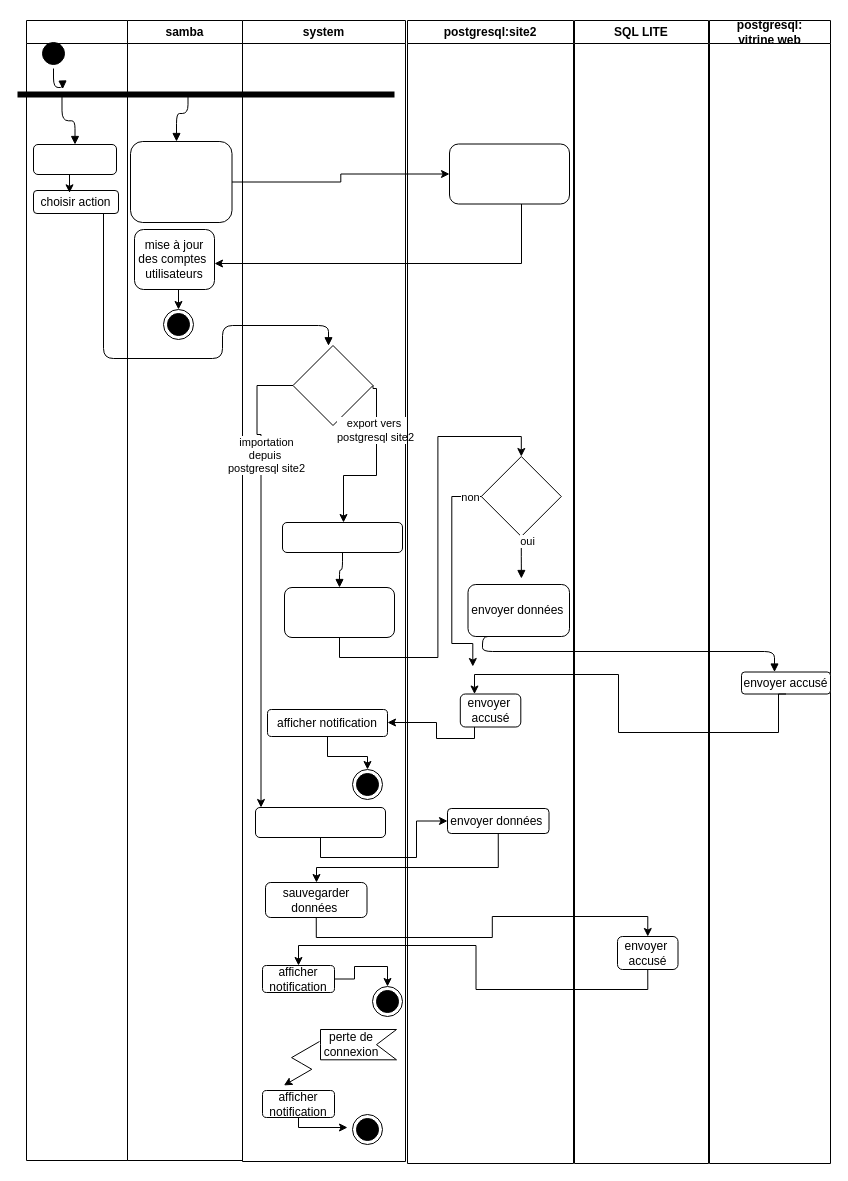
Image size: 848x1181. Some labels were removed from this diagram. Each missing label, with the box of its shape:
administrateur: (26, 20, 128, 1160)
Choisir l'action: (292, 344, 373, 426)
choisir le module BD: (32, 144, 116, 174)
demander données: (254, 806, 386, 838)
envoi données: (448, 143, 570, 204)
envoyer données des tables temporaires: (284, 586, 394, 638)
initialisation (démarage) demander login et password de table membre: (130, 140, 232, 222)
nouvelle données: (480, 456, 561, 536)
Sélectionner export sqllite: (282, 522, 402, 552)
